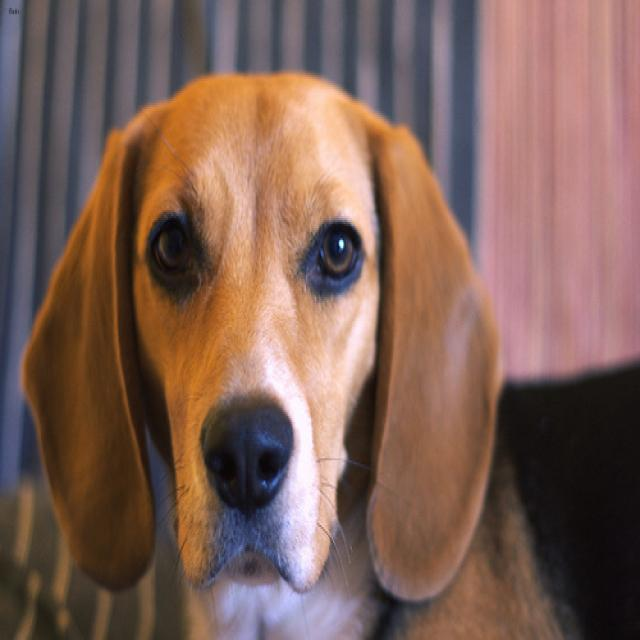dog-beagle: (13, 65, 570, 636)
